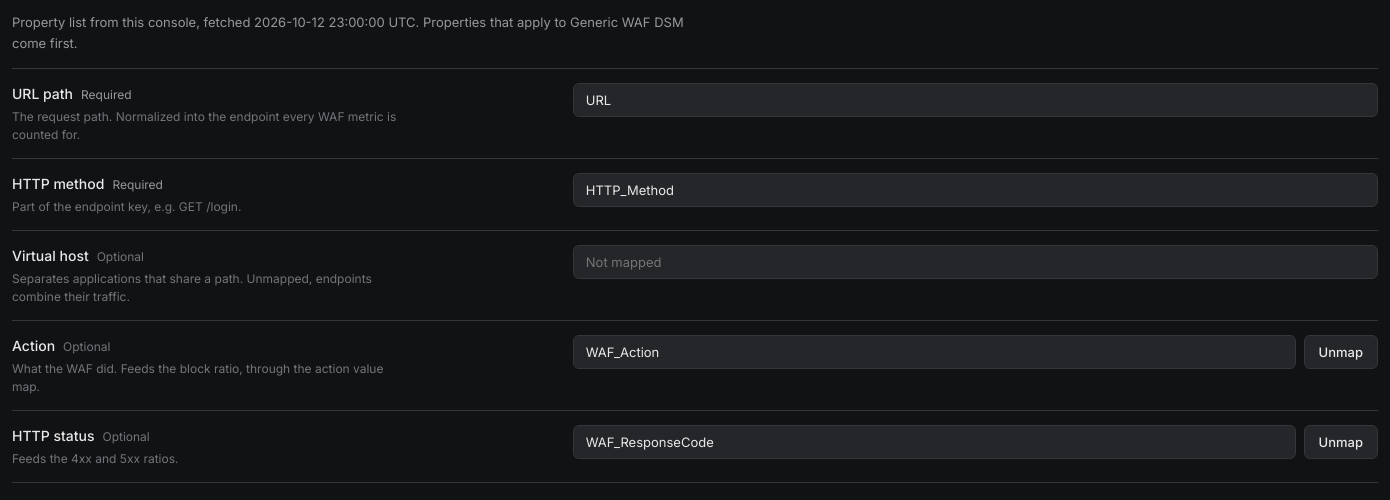
Test: FieldMappingForm › warns, without blocking, about a name the console does not list
Type "Host_Header" into the dropdown labelled "Virtual host". click: (975, 262)
box: x1=573 y1=245 x2=1378 y2=279
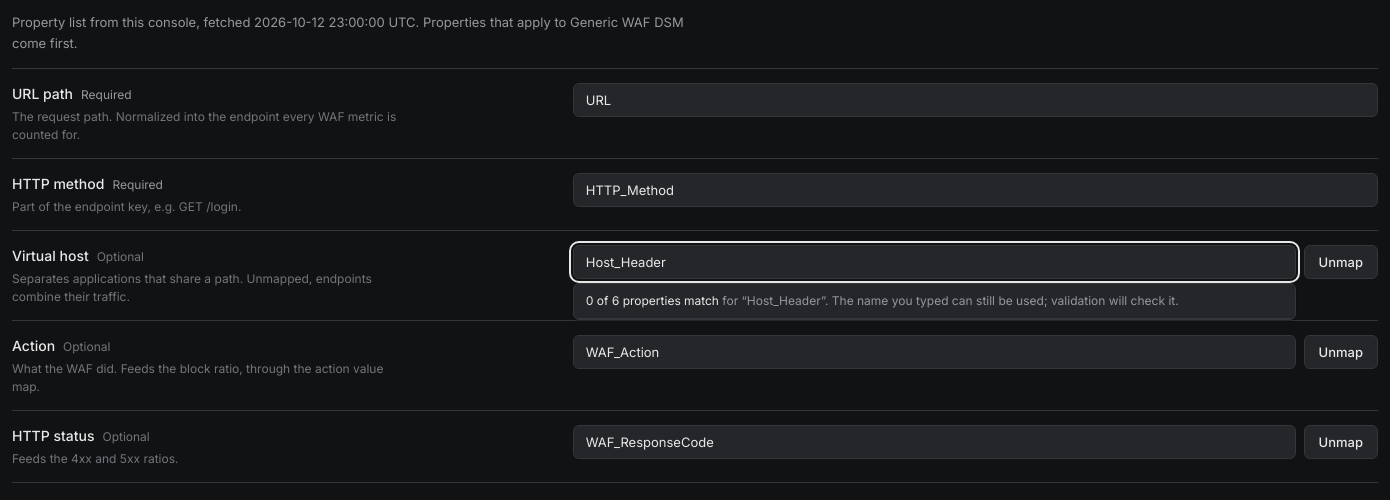
Expected: the text "Not in this console’s property list. Validation will check it." is shown, x1=573 y1=288 x2=893 y2=303
